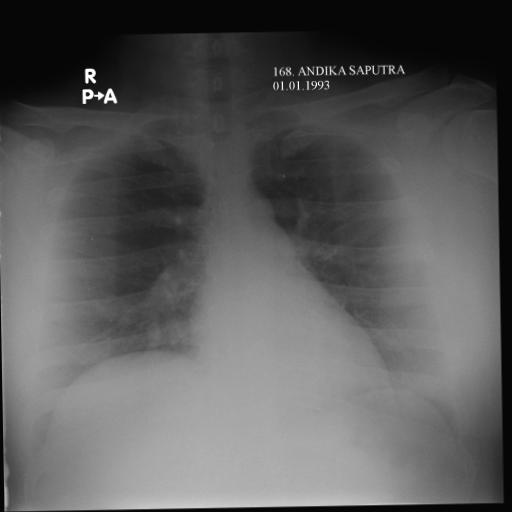normal: (16, 96, 473, 466)
